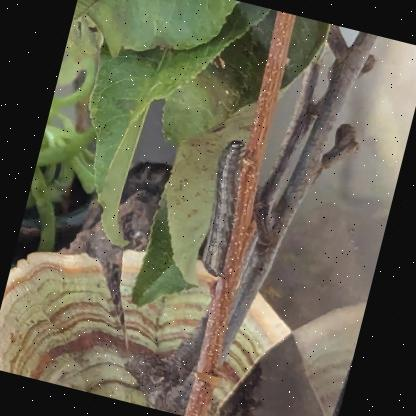Fall Armyworm Larvae: (188, 134, 262, 282)
